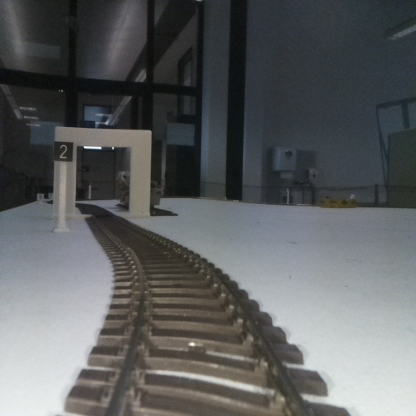black-info-2: (54, 141, 72, 230)
